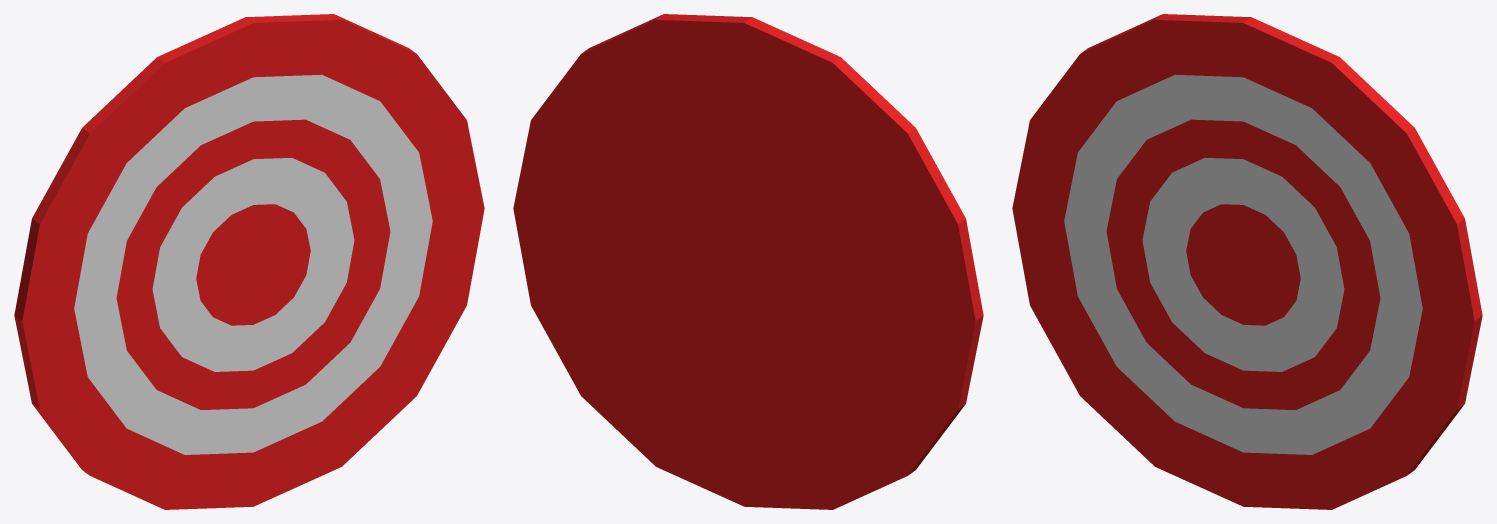
The model's file is target.fbx.
3 views of the same model, side by side, from view 1: azimuth 30°, elevation 25°; view 2: azimuth 150°, elevation 25°; view 3: azimuth 330°, elevation 25° (orthographic).
Visible parts, largest first — view 1: Target; view 2: Target; view 3: Target.
Boxes of the visible parts, box(x1,y1,x2,y2) form: Target: box(14, 14, 484, 509); Target: box(513, 14, 983, 509); Target: box(1012, 14, 1482, 509).
Bounding box in the file's own units: 37.34 × 1.12 × 37.34.
